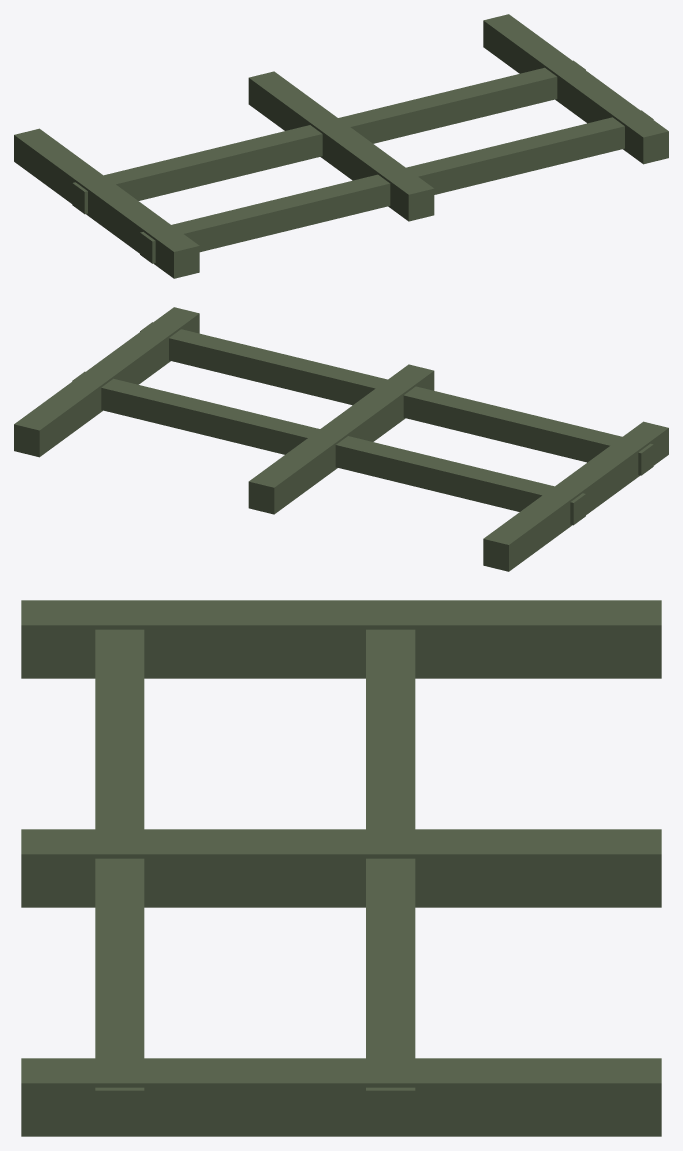
Rendered from SM_RivBridgeRail.obj.
3 views of the same model, one above another, from view 1: azimuth 30°, elevation 25°; view 2: azimuth 150°, elevation 25°; view 3: azimuth 270°, elevation 25° (orthographic). The views are drawn at different scales.
Visible parts, largest first — view 1: SM_RivBridgeRail; view 2: SM_RivBridgeRail; view 3: SM_RivBridgeRail.
Boxes of the visible parts, x1=… form: SM_RivBridgeRail: x1=14, y1=14, x2=668, y2=278; SM_RivBridgeRail: x1=14, y1=307, x2=668, y2=571; SM_RivBridgeRail: x1=21, y1=600, x2=661, y2=1136.
Bounding box in the file's own units: 235 × 12 × 130.
